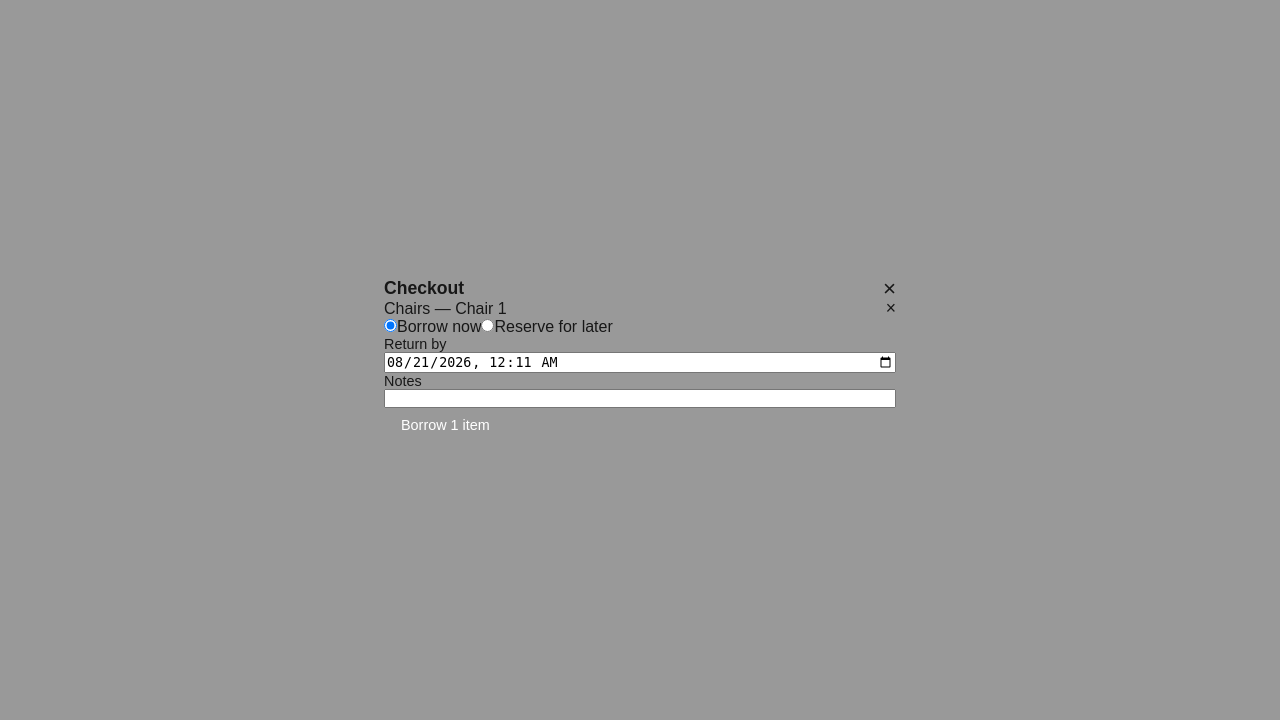
switching to Reserve mode shows start/end fields instead of return-by
The image size is (1280, 720).
Step 1. Click the radio button labelled "Reserve for later" → click(488, 326), box [482,319,494,332]
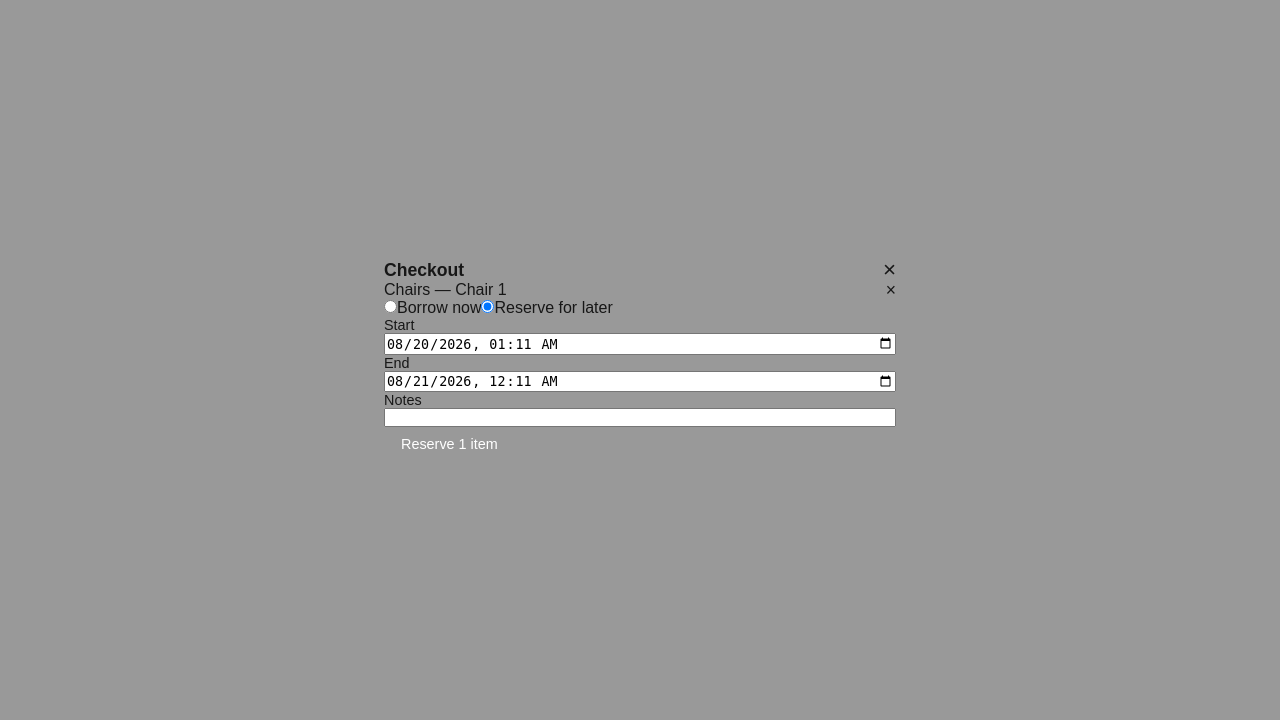
Now the text "Start" is shown, box [384,317,896,355]
Now the text "End" is shown, box [384,355,896,392]
Now the text "Return by" is gone
